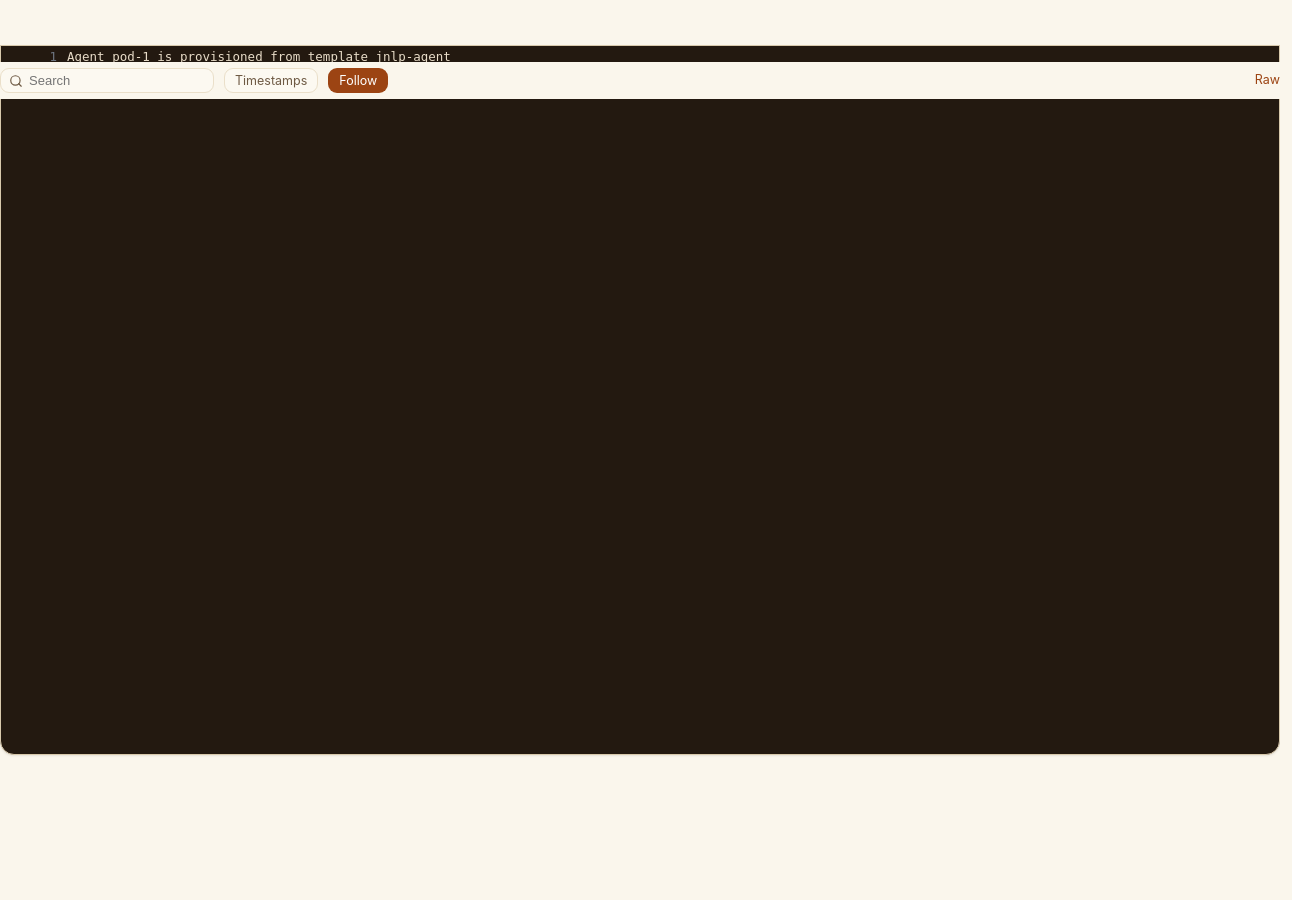
Test: RunLogViewer › search finds a line in a folded manifest and expands it
This screenshot has width=1292, height=900.
In the field named "Search the log": (117, 80) [29,73,205,88], type "kind: Pod"
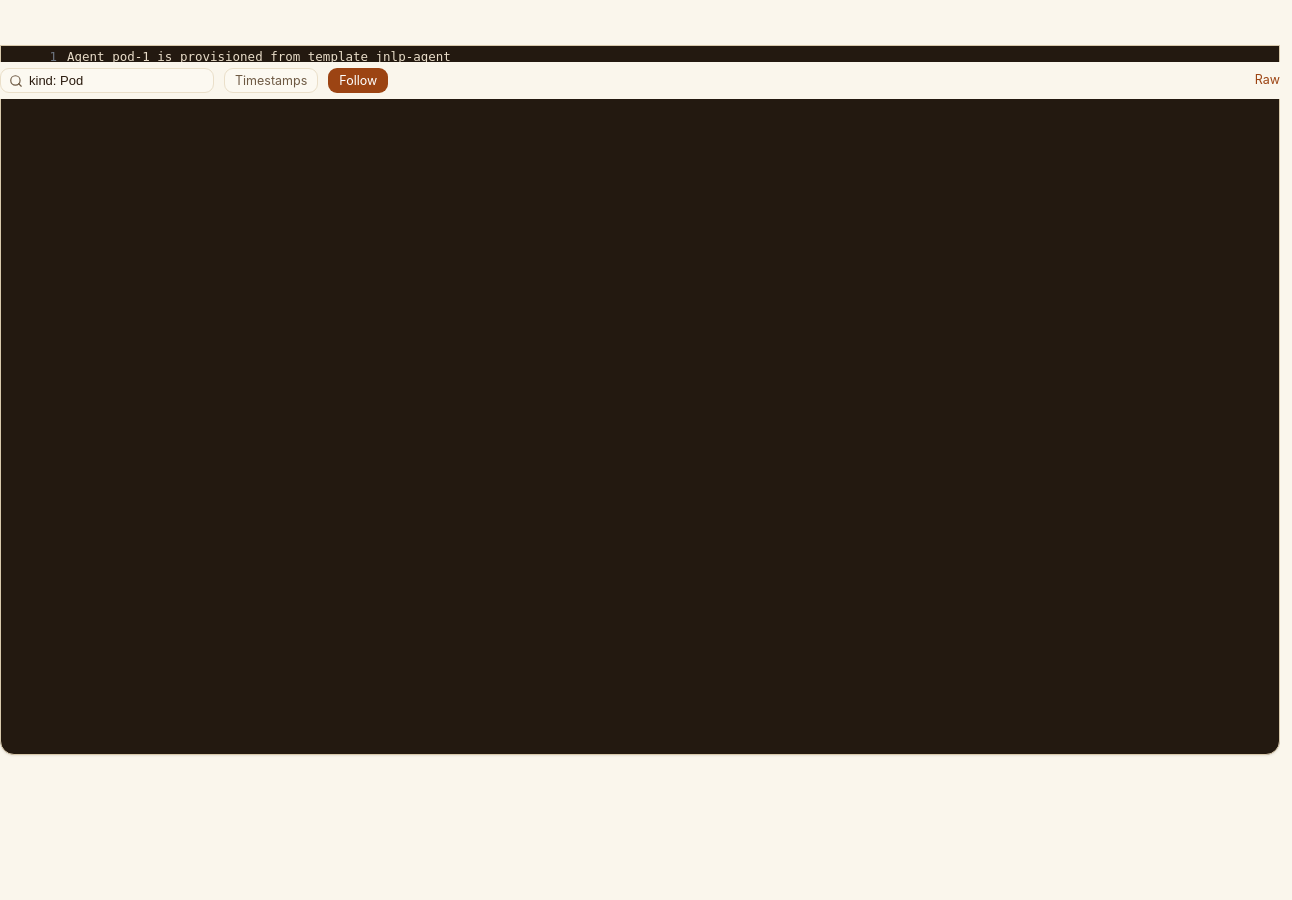
Press Enter in the field named "Search the log", box [29,73,205,88]
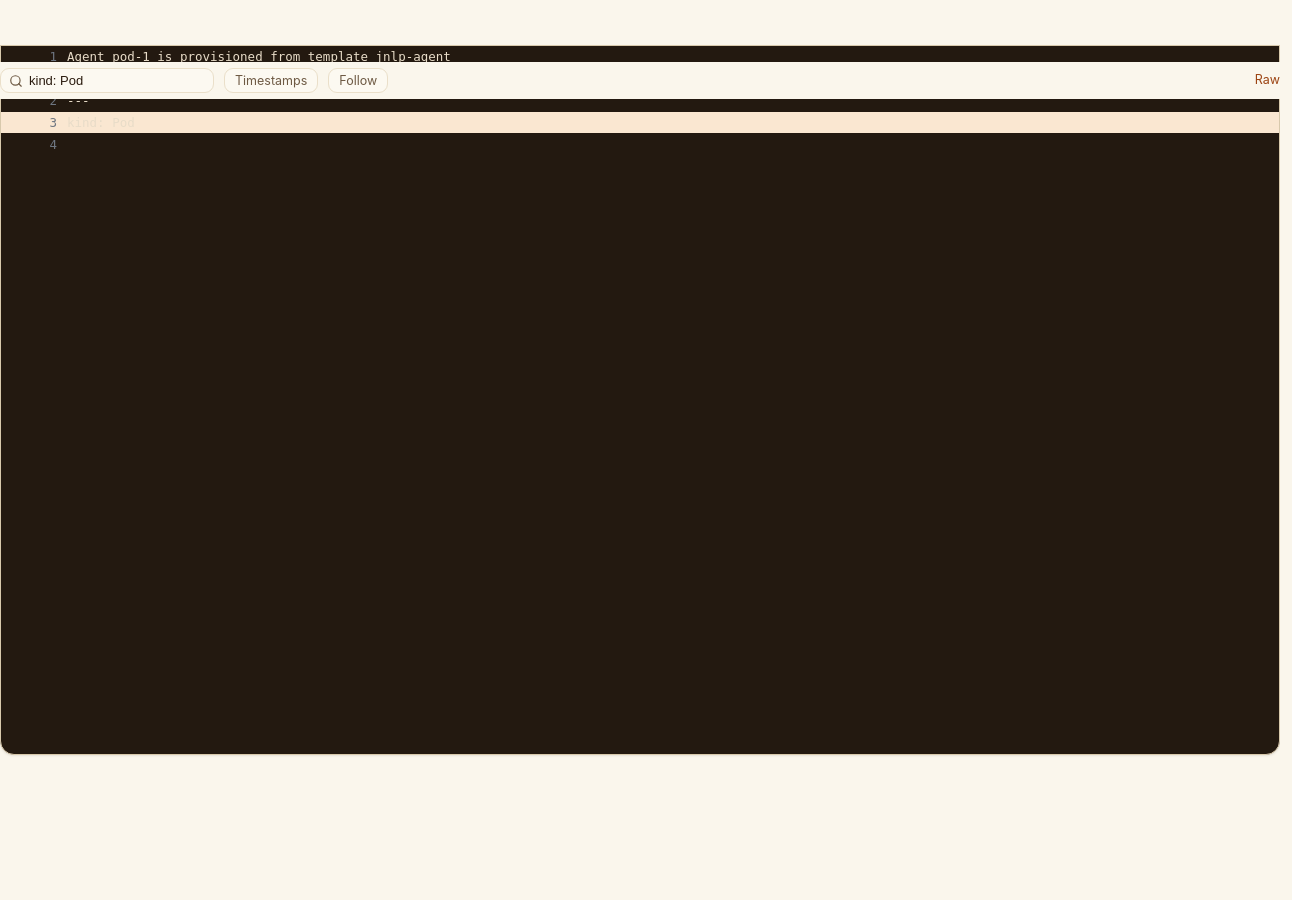
Expected: the element showing "3 kind: Pod" is shown, [1,112,1279,133]
